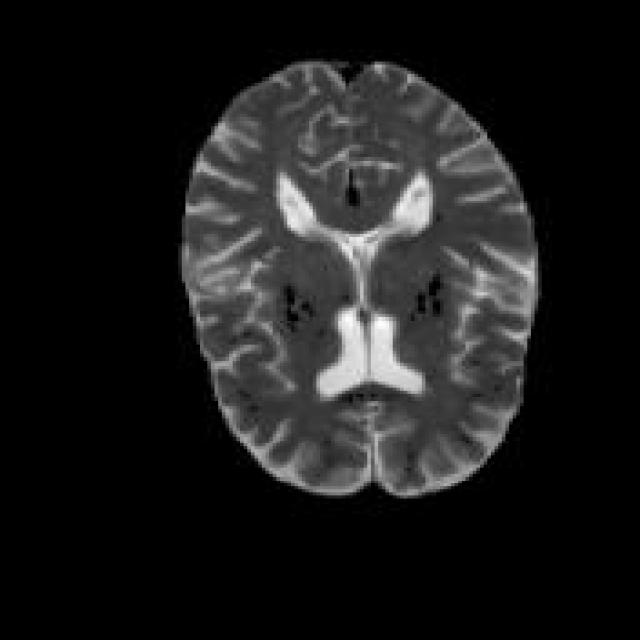parkinson: (174, 56, 542, 498)
